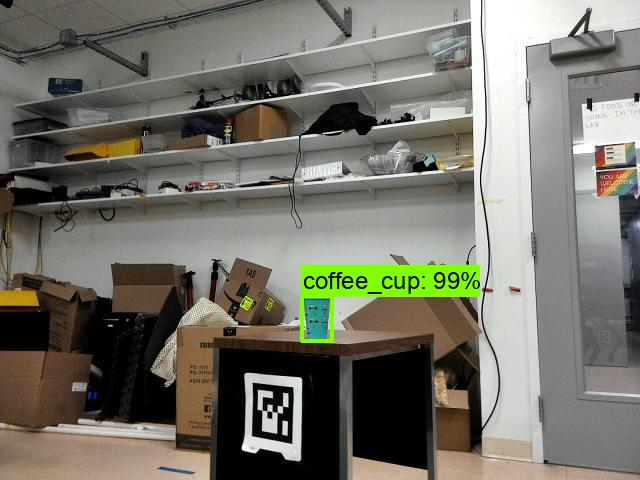coffee_cup: (302, 297, 333, 340)
